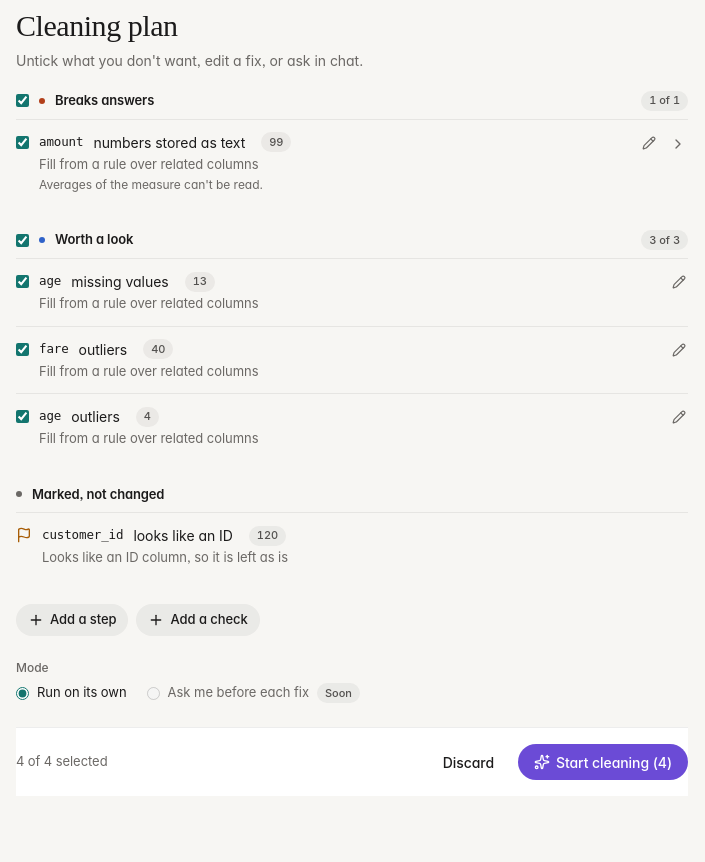
editing the cleaning plan (PRD CLEAN-8b) › adds a step of the user's own, under Your steps, and × removes it
Click the button "Add a step" at [72, 620], box [16,604,128,636]
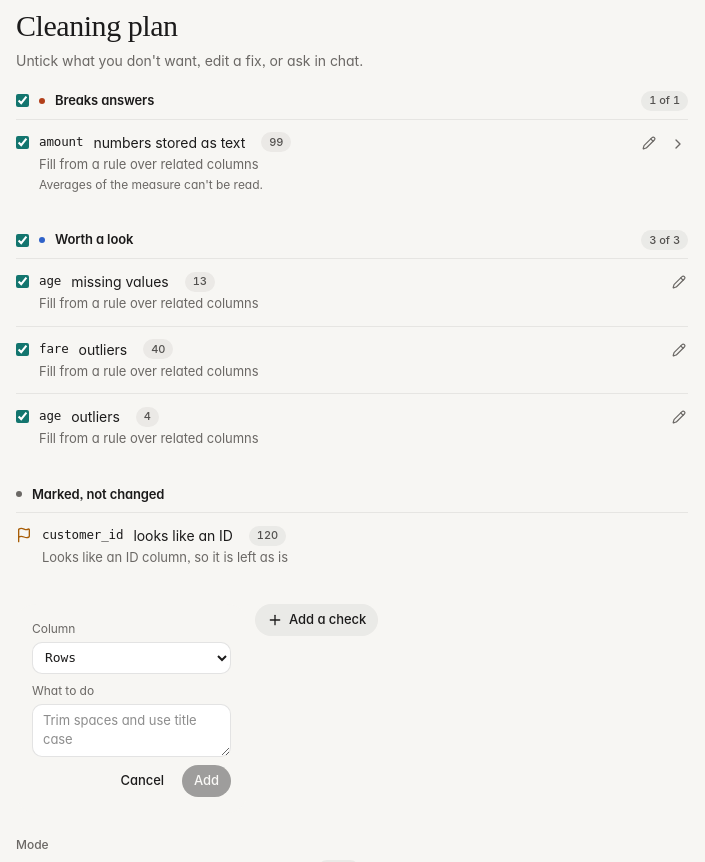
Select "region" in the dropdown labelled "Column" at [132, 658], box [32,642,231,674]
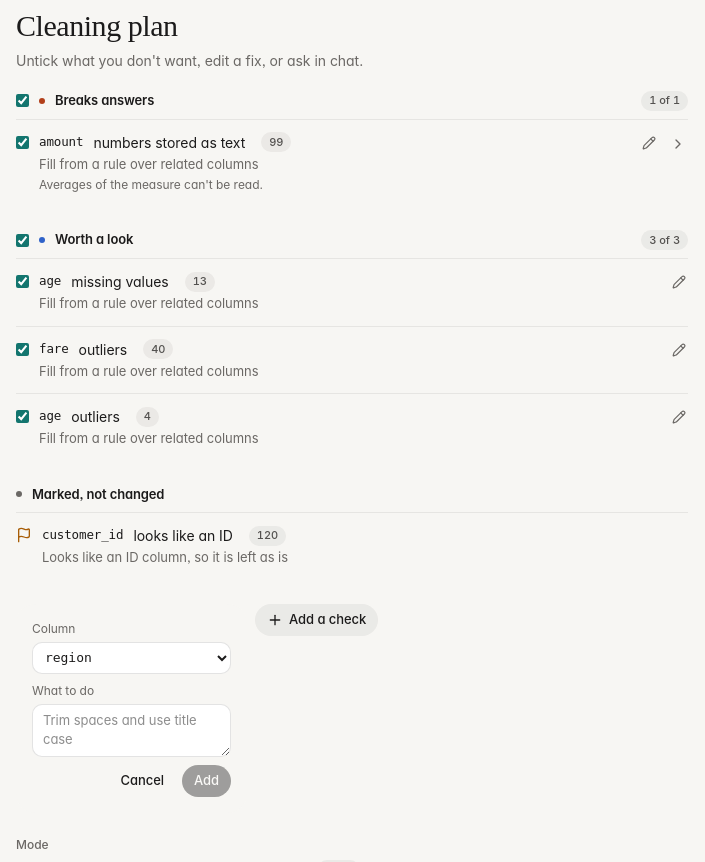
Type "Trim spaces" into the text box labelled "What to do" at [132, 730], box [32,704,231,756]
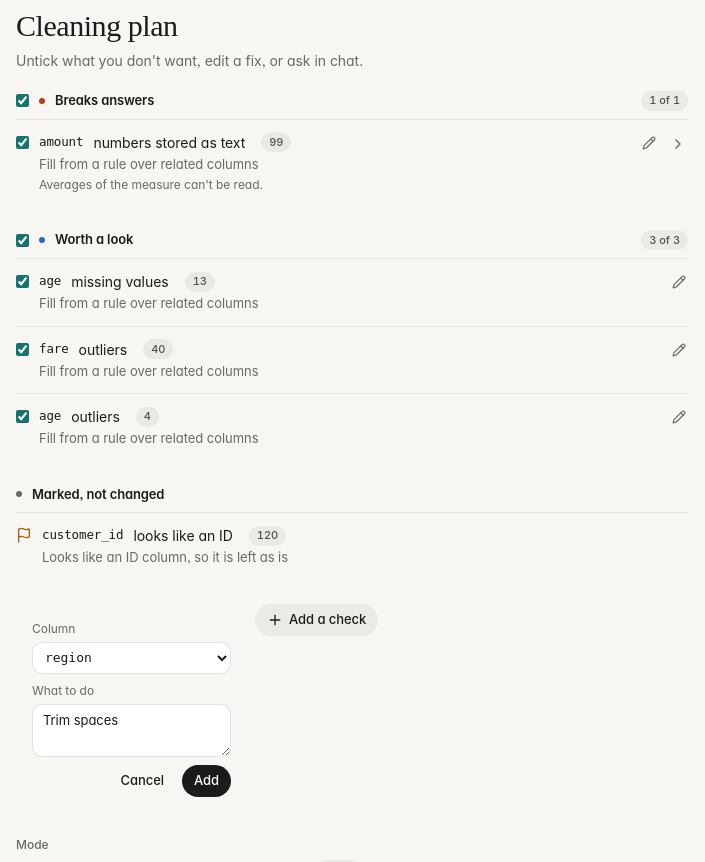
Click the button "Add" at [206, 780], box [182,764,231,796]
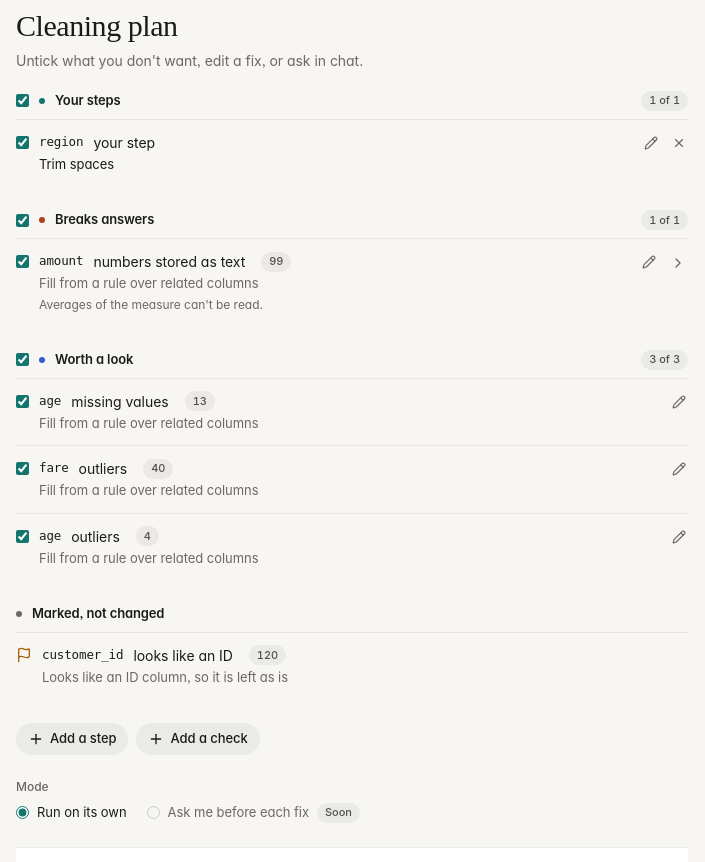
Expected: the checkbox named "region: your step" is checked, [16,136,29,148]
Result: the heading "Your steps" is shown at [55,91,121,110]
Click the button named "Remove your step on region" at [679, 142], box [670,134,688,152]
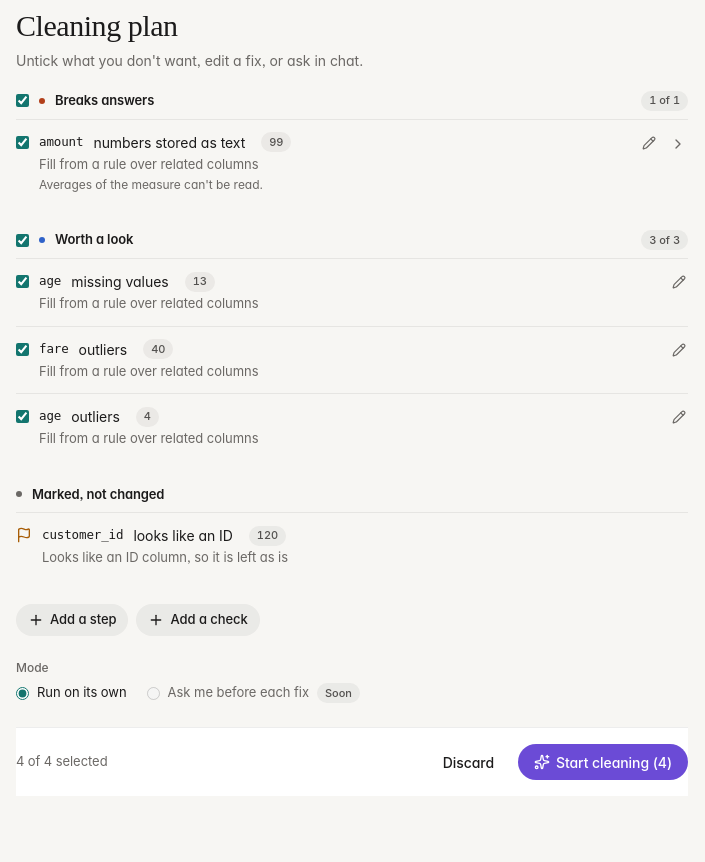
Result: the heading "Your steps" is gone
